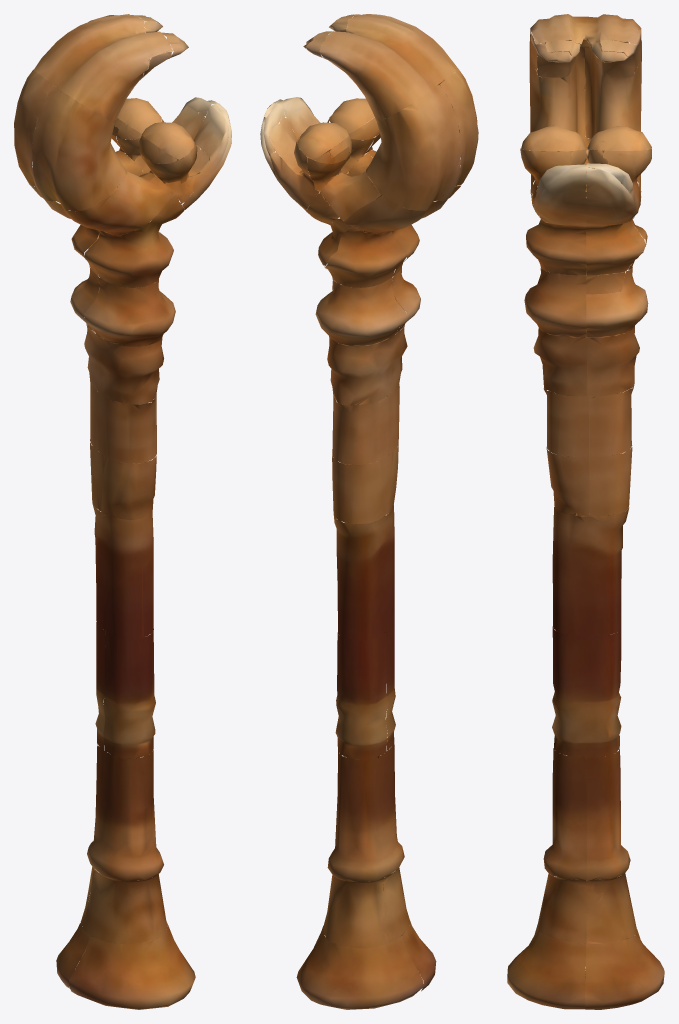
File: staff2.glb
3 views of the same model, side by side, from view 1: azimuth 30°, elevation 25°; view 2: azimuth 150°, elevation 25°; view 3: azimuth 270°, elevation 25° (orthographic).
Visible parts, largest first — view 1: staff2; view 2: staff2; view 3: staff2.
Boxes of the visible parts, x1,y1,x2,y2 form: staff2: [14, 14, 231, 1009]; staff2: [260, 14, 478, 1009]; staff2: [507, 14, 664, 1009].
Size of the model in its own units: 0.2087 by 1 by 0.1482.
1 material, 1 textured.
